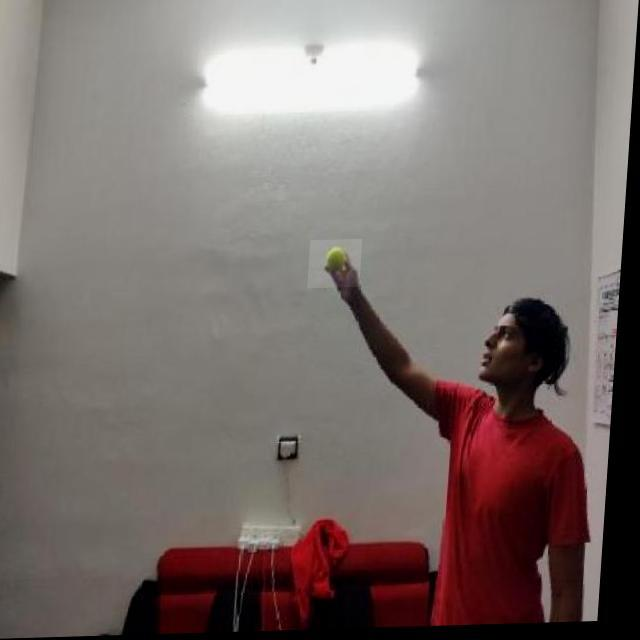-: (311, 242, 366, 290)
